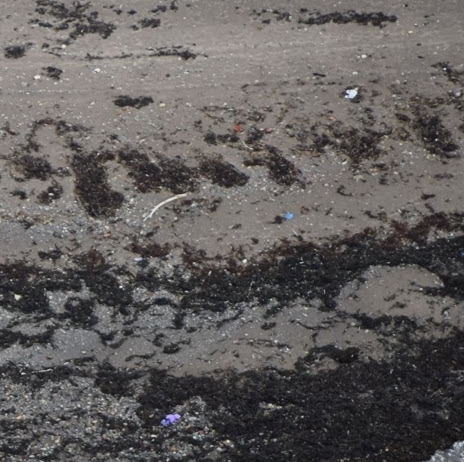tube: (145, 189, 185, 223)
white_in_green: (147, 398, 204, 441), (270, 196, 316, 232)
